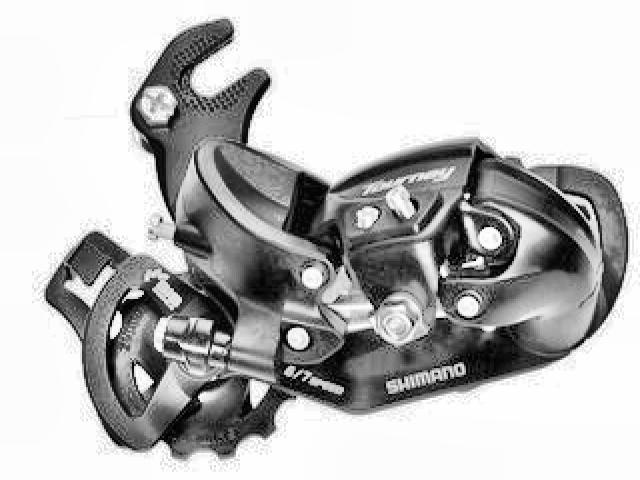rear_derailleur: (40, 16, 632, 462)
